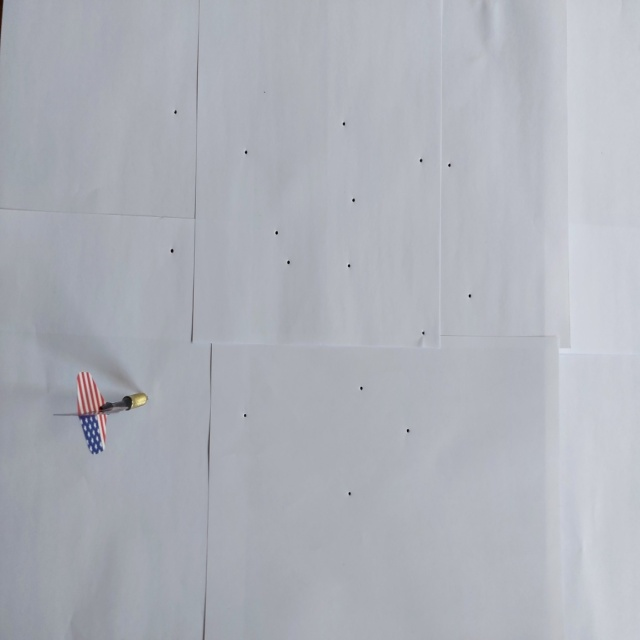Dart: (45, 365, 157, 458)
